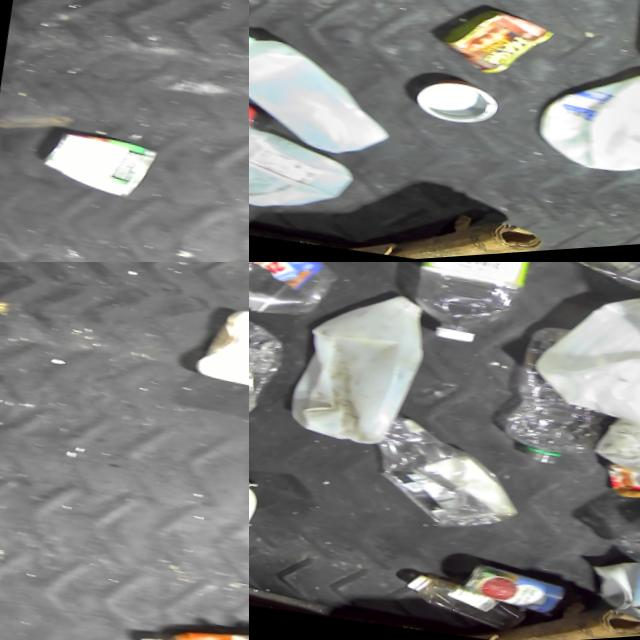can: (445, 552, 564, 627), (401, 72, 498, 138), (533, 262, 640, 303)
milk_jug: (275, 273, 433, 457), (249, 19, 398, 173), (519, 268, 640, 455), (518, 50, 640, 205), (249, 103, 354, 236), (166, 291, 249, 421)
non_white_jug: (593, 526, 640, 640)
plastic_bottle: (485, 318, 611, 480), (391, 262, 541, 362), (249, 302, 291, 430)
